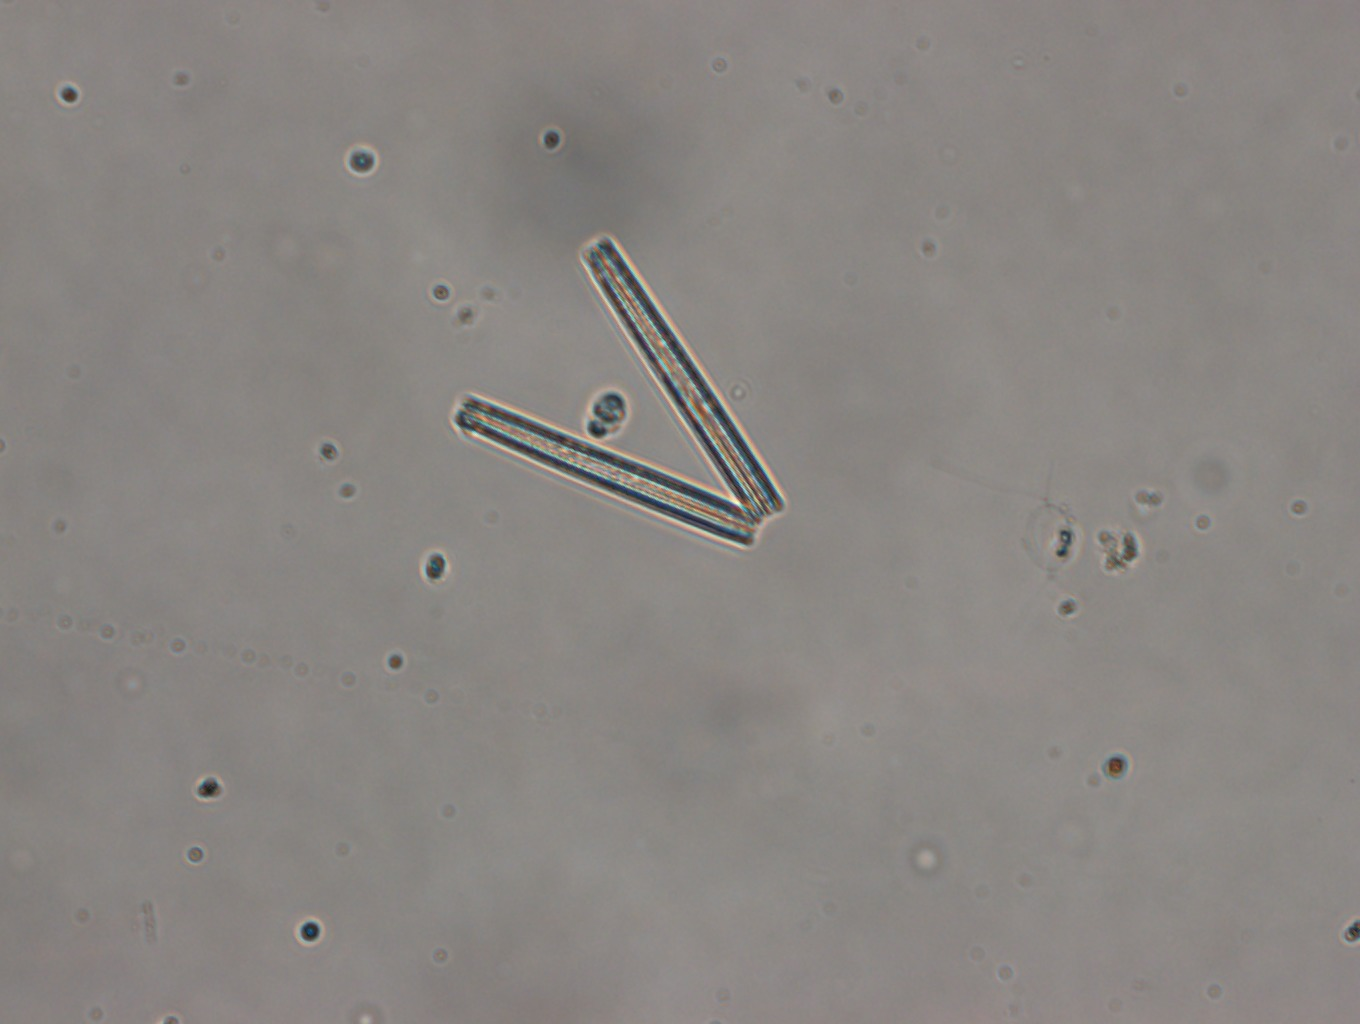thalassionema nitzschioides: (452, 234, 787, 551)
